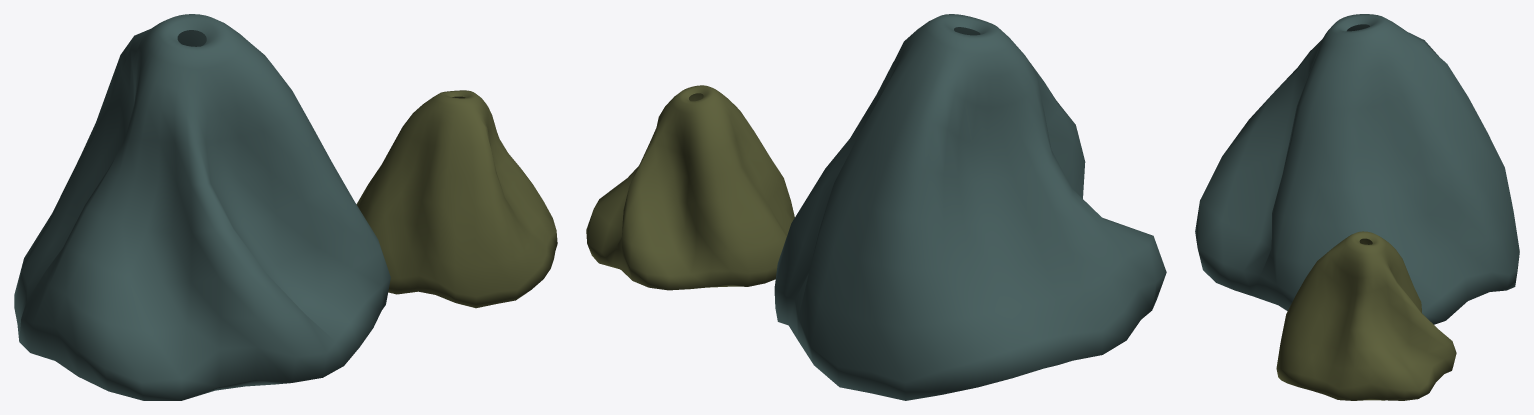
Rendered from Geyser animação.fbx.
3 views of the same model, side by side, from view 1: azimuth 30°, elevation 25°; view 2: azimuth 150°, elevation 25°; view 3: azimuth 270°, elevation 25° (orthographic). The views are drawn at different scales.
Parts seen in each view (by area): view 1: Circle.024, Circle.000; view 2: Circle.024, Circle.000; view 3: Circle.024, Circle.000.
Part boxes in pixels (left/top/right/bottom): Circle.024: left=14, top=14, right=390, bottom=400; Circle.000: left=356, top=90, right=557, bottom=308; Circle.024: left=774, top=14, right=1166, bottom=400; Circle.000: left=586, top=85, right=794, bottom=290; Circle.024: left=1195, top=14, right=1519, bottom=324; Circle.000: left=1276, top=231, right=1456, bottom=400.
Size of the model in its own units: 702 by 401 by 463.
